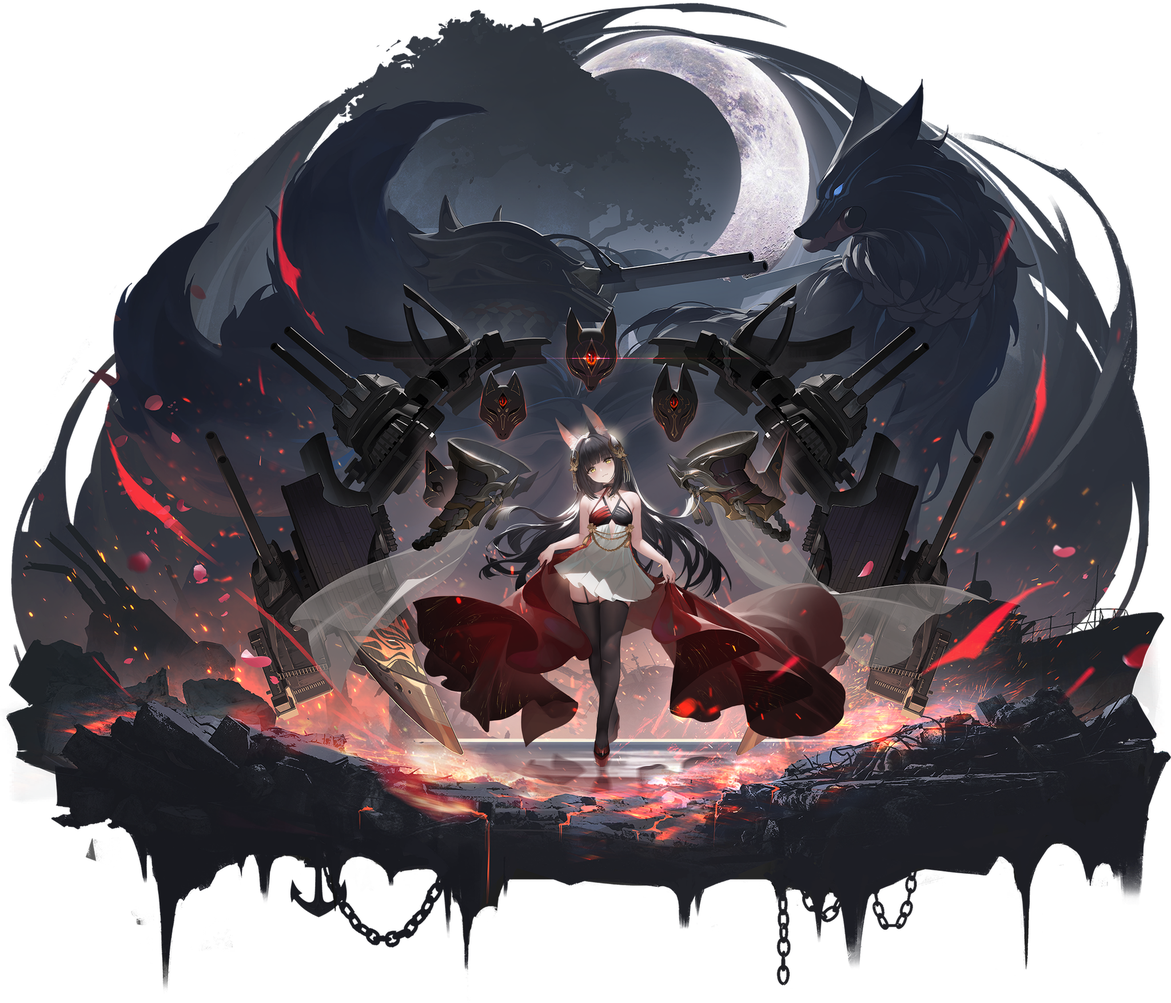person: (483, 398, 722, 796)
